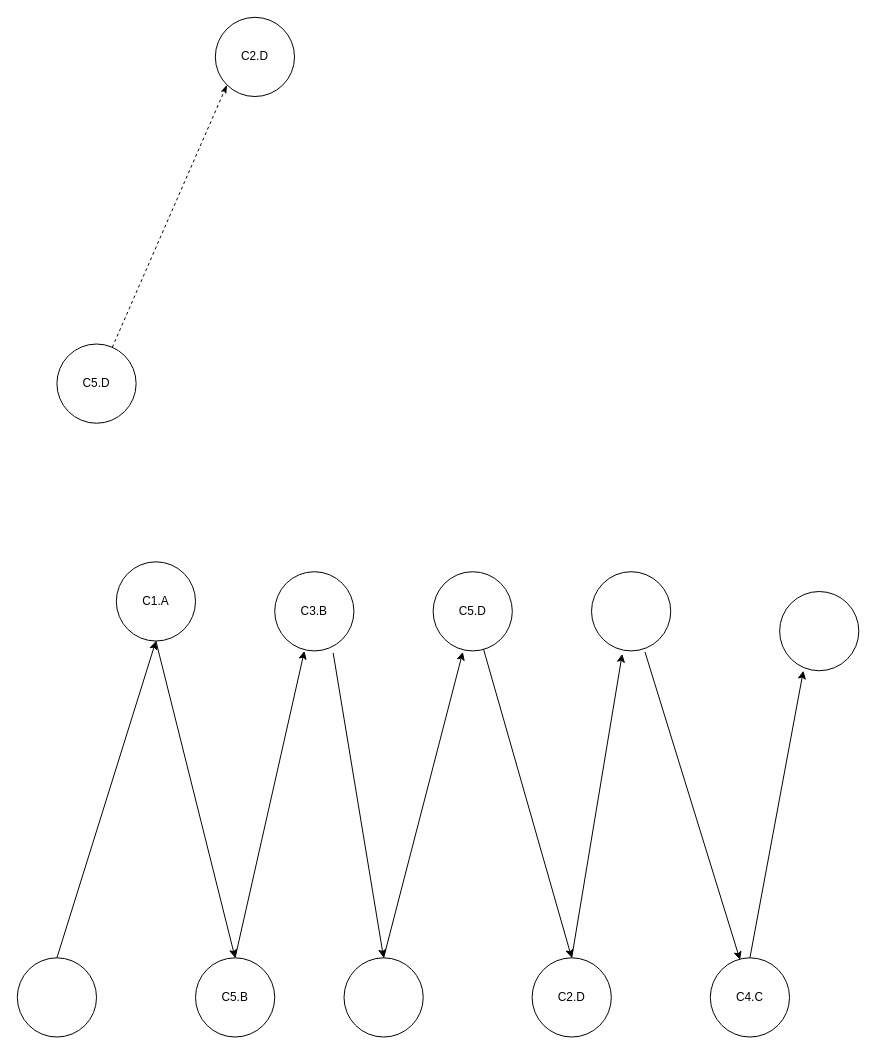
Some shapes in this 876 by 1054 pixel diagram are drawn without their labels. The centre of each missing label's shape, as x and y in pixels:
"C2.A" goes at [56,997].
"C2.B" goes at [383,997].
"C2.C" goes at [819,631].
"C5.C" goes at [631,611].
